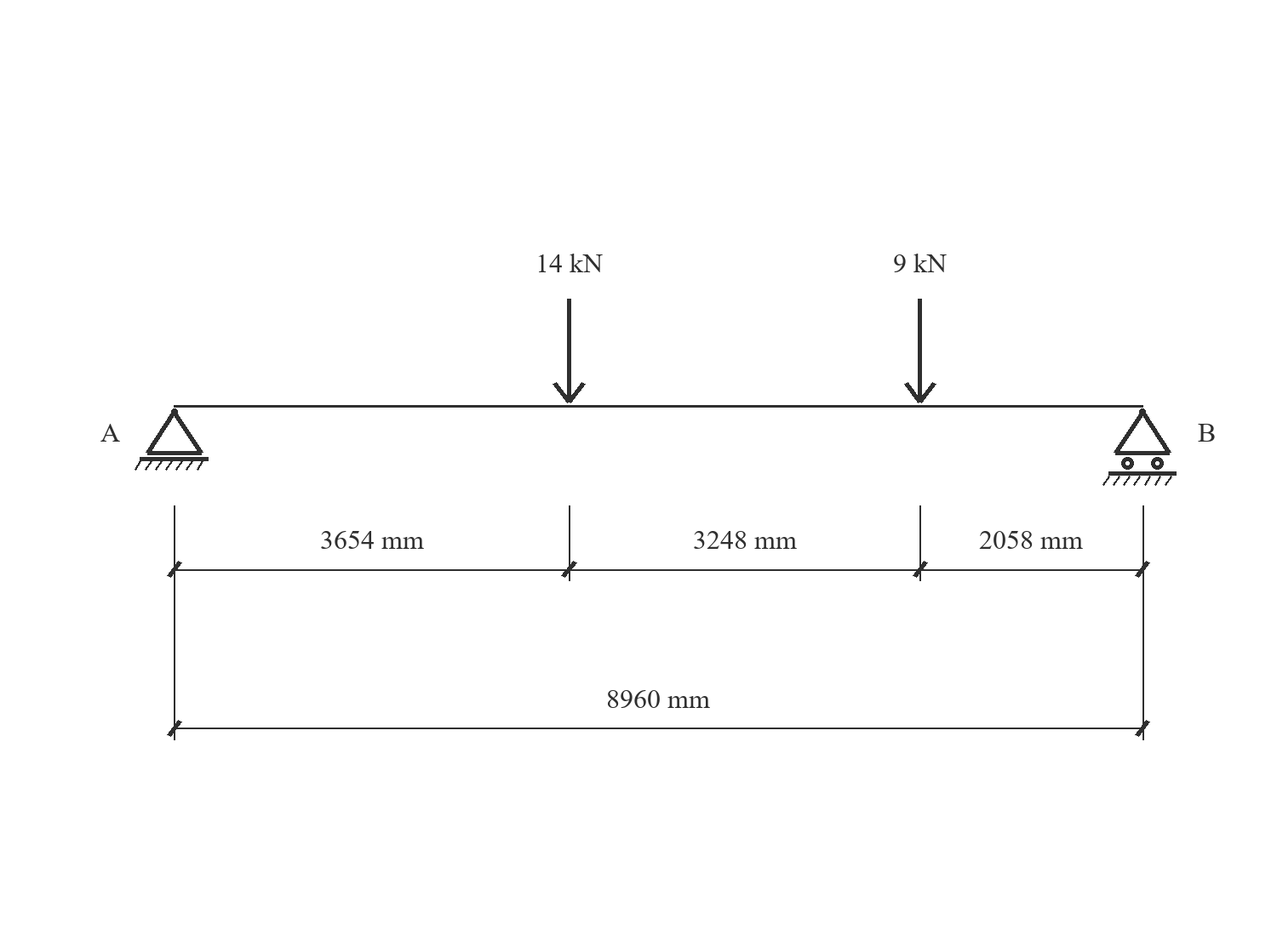pin_support: (135, 408, 209, 471)
point_load: (553, 299, 586, 403), (904, 299, 936, 403)
roller_support: (1102, 408, 1177, 486)
